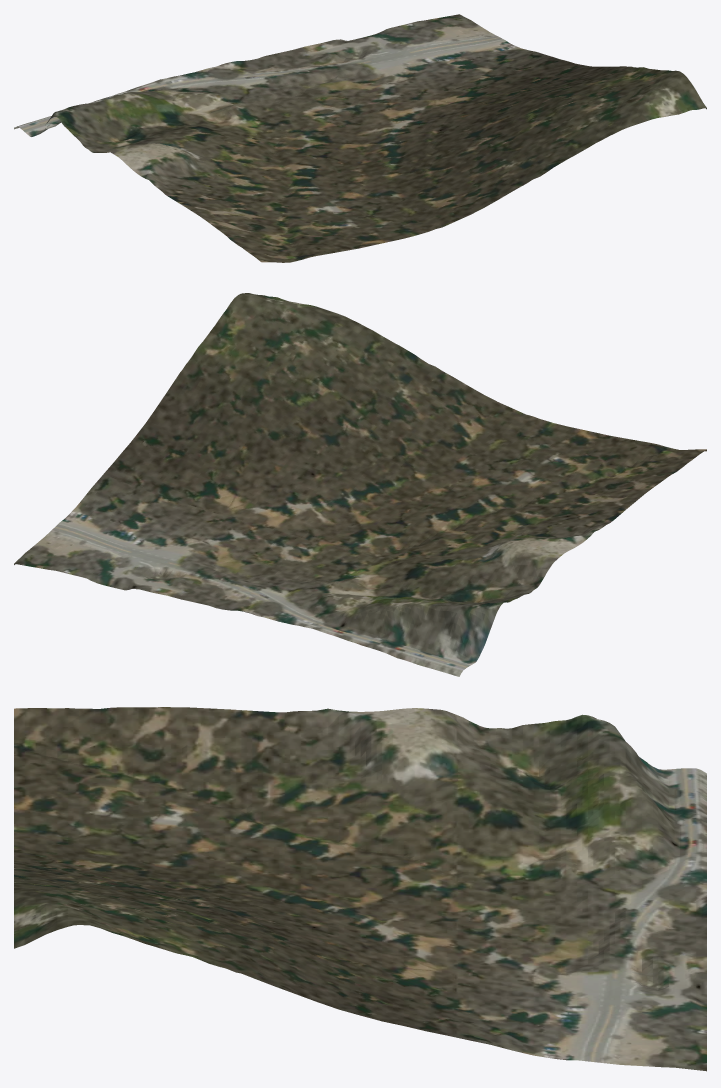
3 views of the same model, one above another, from view 1: azimuth 30°, elevation 25°; view 2: azimuth 150°, elevation 25°; view 3: azimuth 270°, elevation 25° (orthographic). The views are drawn at different scales.
Bounding box in the file's own units: 250 × 59.55 × 241.
1 material, 1 textured.
